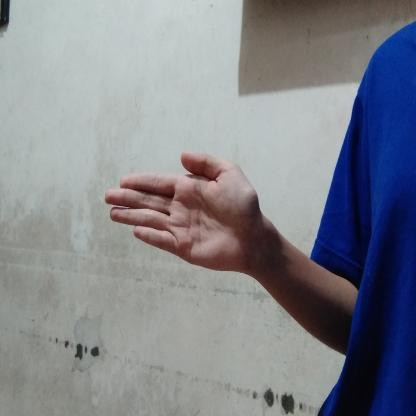ready: (89, 144, 283, 284)
